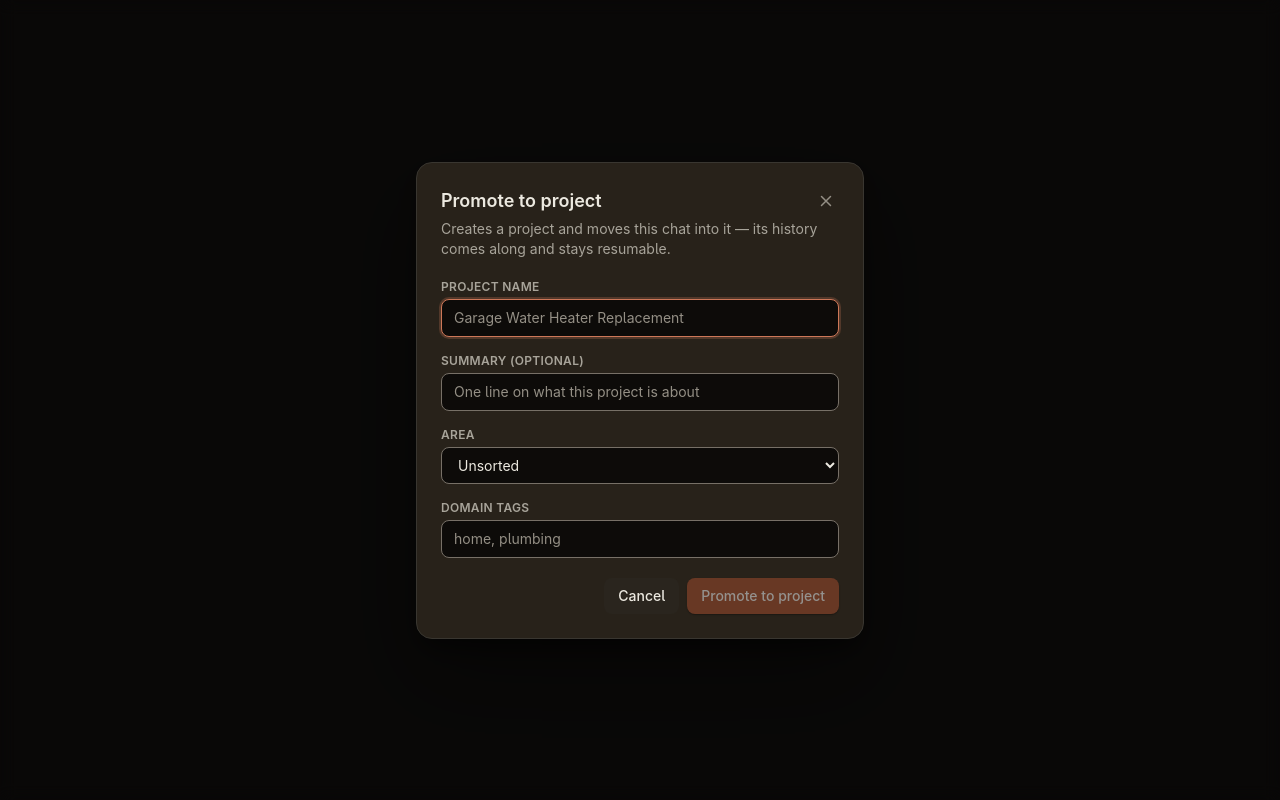
Test: PromoteChatModal › disables Promote until a name is present
The width and height of the screenshot is (1280, 800).
Expected: the button "Promote to project" is disabled, [687,578,839,614]
Type "P" into the field with placeholder "Garage Water Heater Replacement" at (640, 318), box [441,298,839,336]
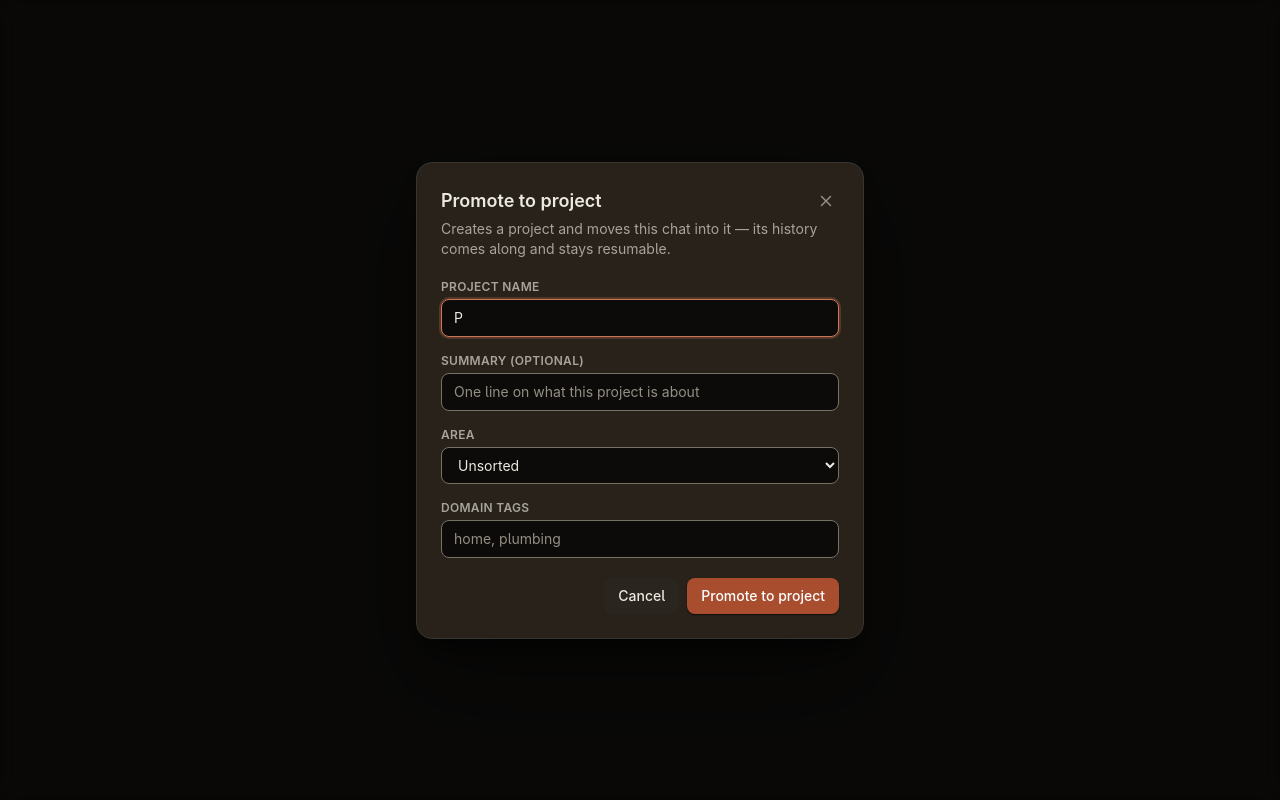
Expected: the button "Promote to project" is enabled, [687,578,839,614]
